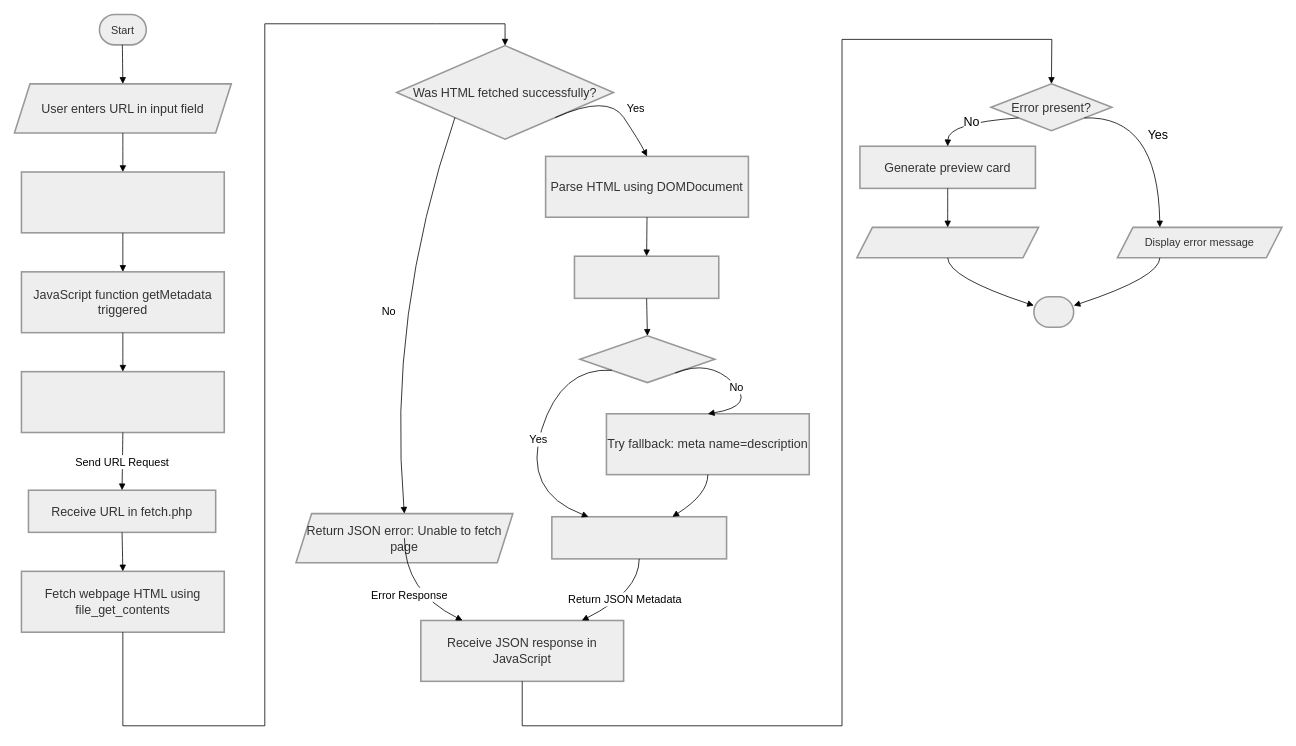
Image size: 1296x746. Some labels were removed from this diagram. Each missing label, with the centre of its shape:
"Display metadata to user" belongs at (x=947, y=242).
"End" belongs at (x=1053, y=312).
"Extract metadata" belongs at (x=646, y=277).
"Metadata found?" belongs at (x=647, y=359).
"Prepare JSON response" belongs at (x=639, y=537).
"Send POST request to fetch.php with URL" belongs at (x=122, y=401).
"User clicks Extract Metadata button" belongs at (x=122, y=202).
